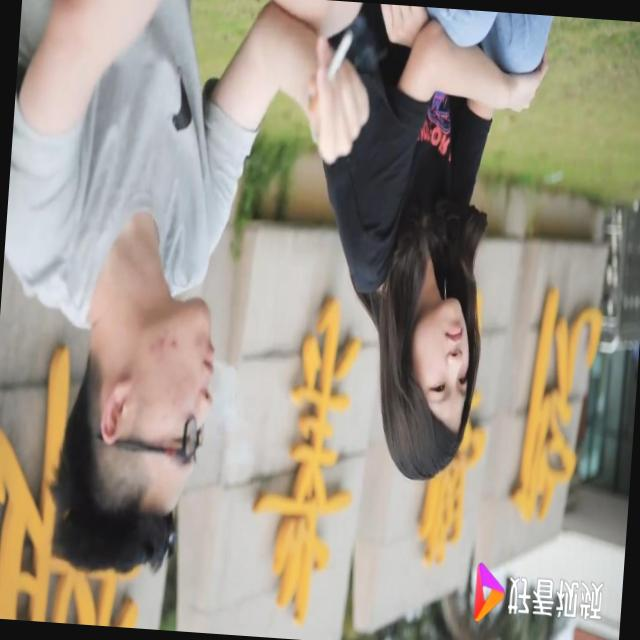cigarette: (305, 15, 360, 126)
